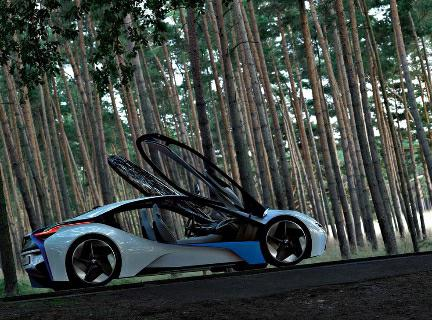宝马-EfficientDynamics: (19, 193, 330, 291)
